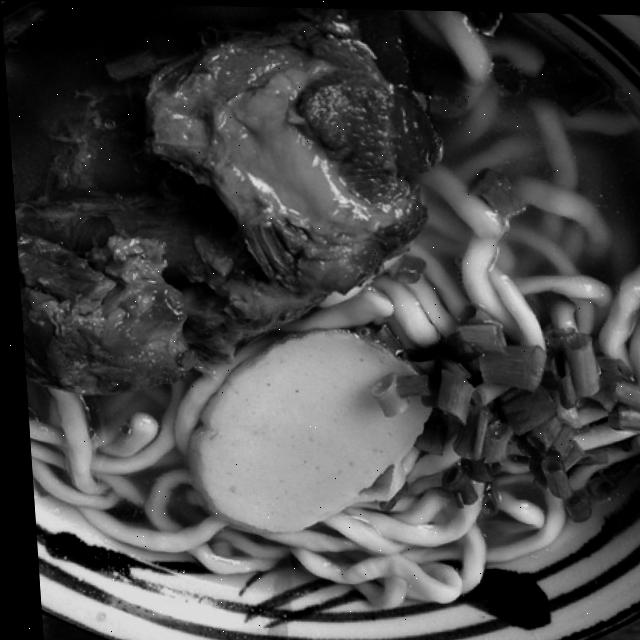鸡蛋料理: (14, 264, 640, 594)
